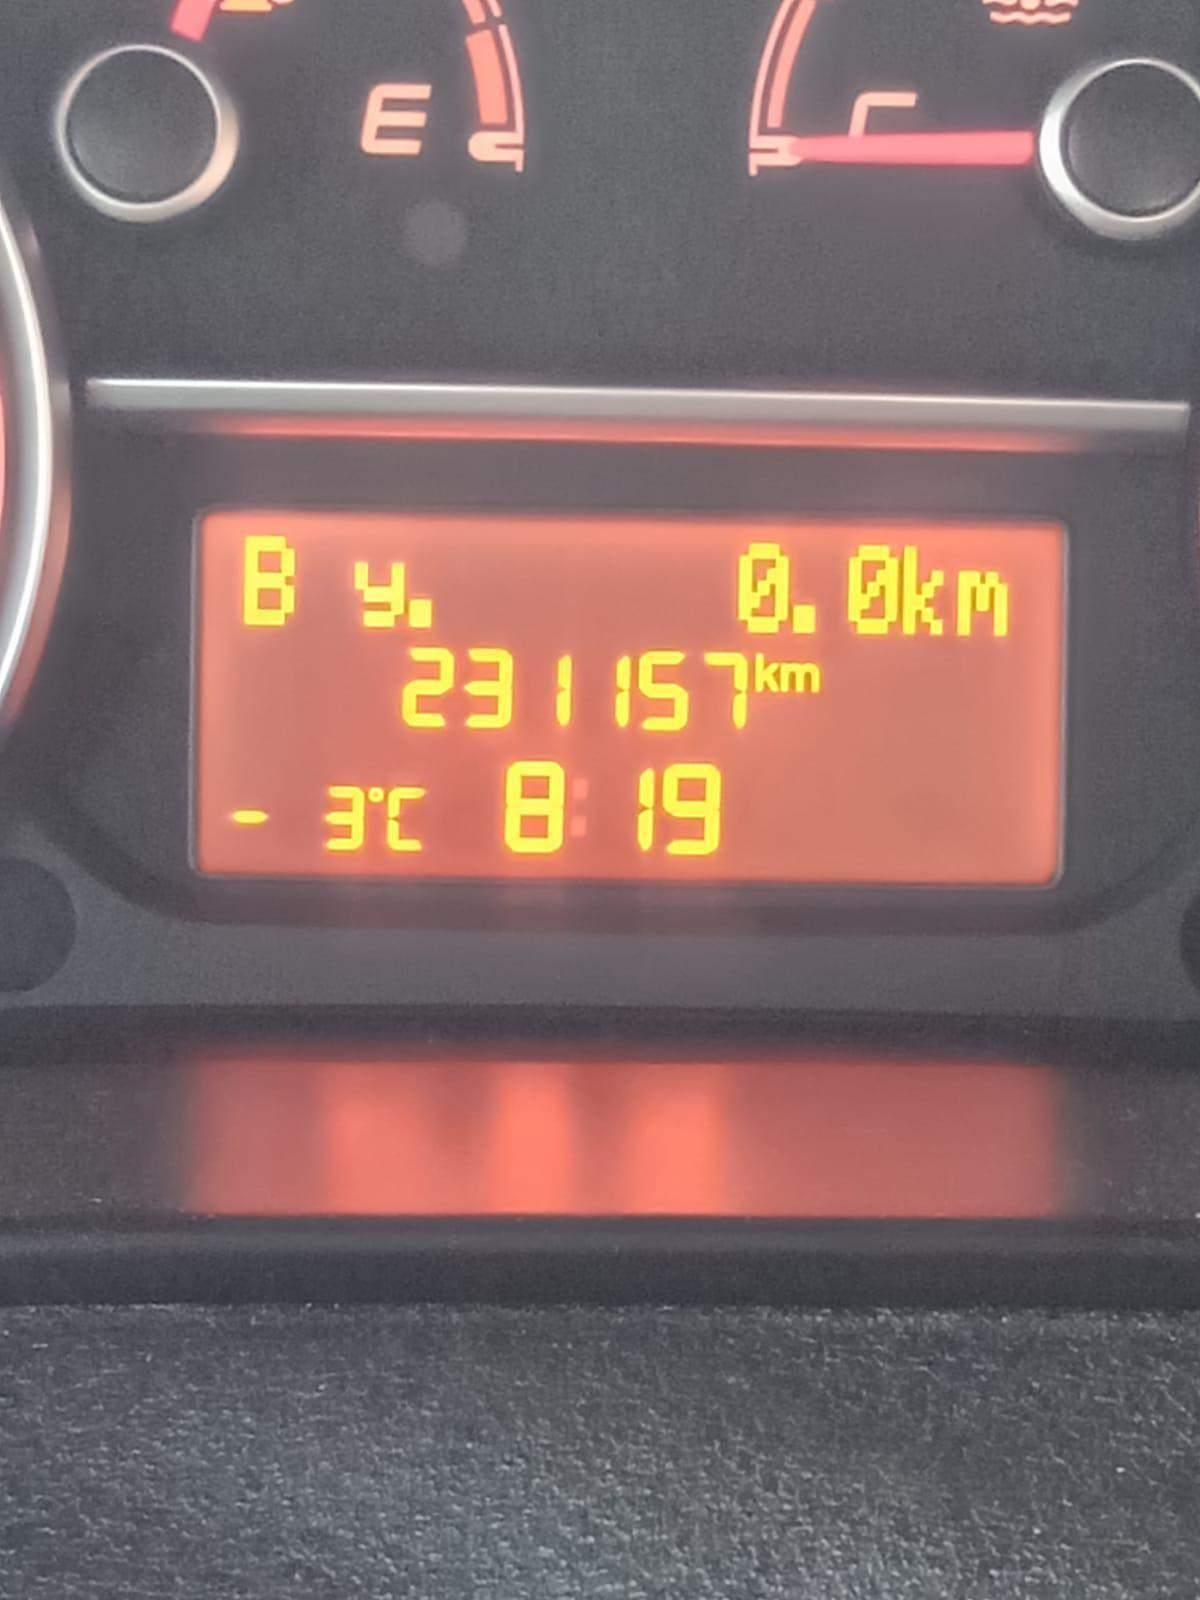,: (405, 593, 436, 631), (790, 600, 818, 636)
0: (735, 540, 792, 635), (845, 542, 899, 637)
1: (633, 767, 657, 853), (553, 653, 574, 729), (611, 654, 632, 729)
2: (400, 646, 458, 729)
3: (461, 646, 516, 729), (321, 784, 367, 852)
5: (635, 648, 692, 734)
7: (700, 649, 751, 734)
8: (500, 758, 567, 857)
9: (659, 761, 724, 858)
X: (239, 532, 297, 629), (901, 542, 947, 637), (350, 558, 408, 630), (954, 568, 1008, 639), (384, 784, 430, 855), (568, 775, 590, 842), (782, 661, 822, 694), (753, 649, 782, 692)
odometer: (175, 496, 1082, 903)
